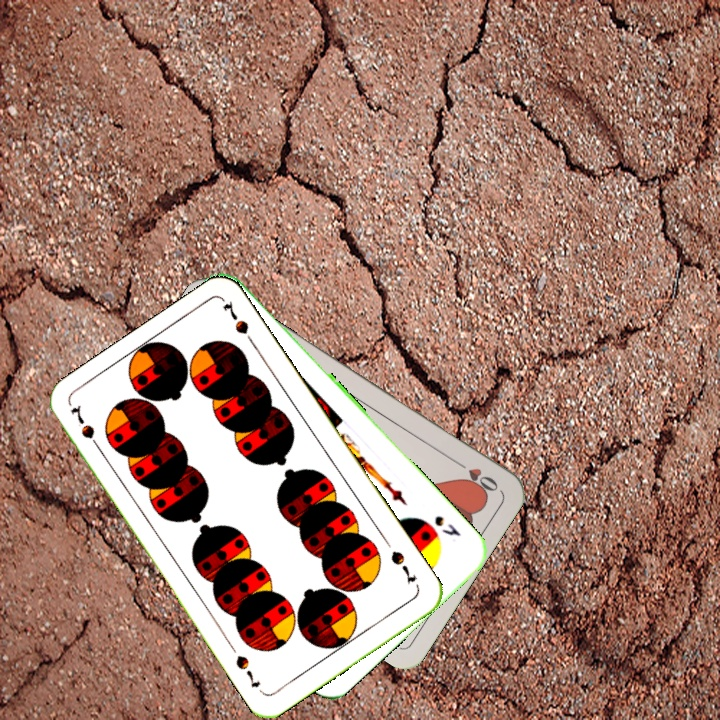HO: (449, 456, 502, 496)
S7: (66, 400, 105, 455), (386, 546, 419, 587)
SK: (430, 511, 464, 540)
